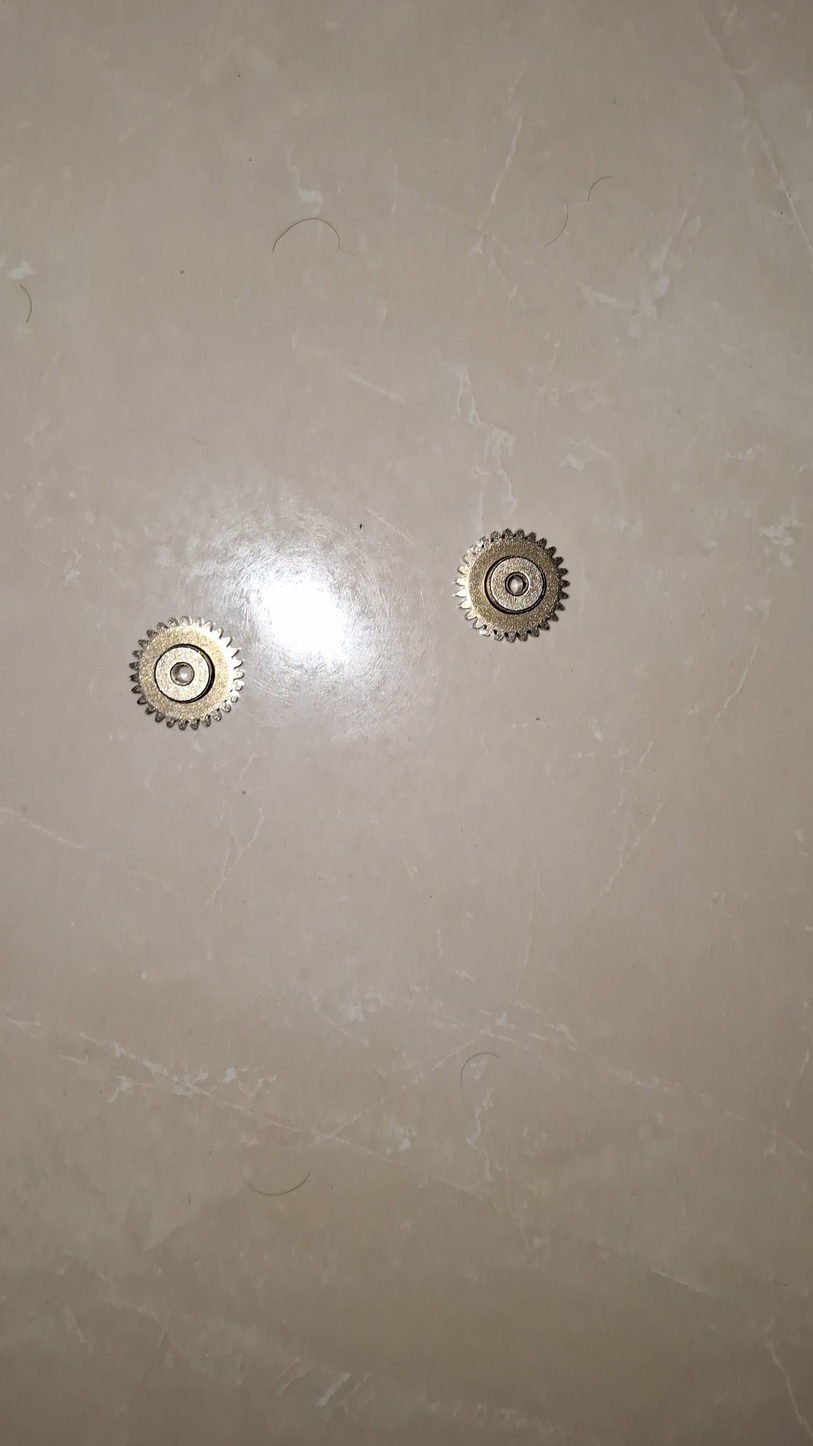spur gear: (133, 613, 245, 726), (458, 526, 569, 637)
